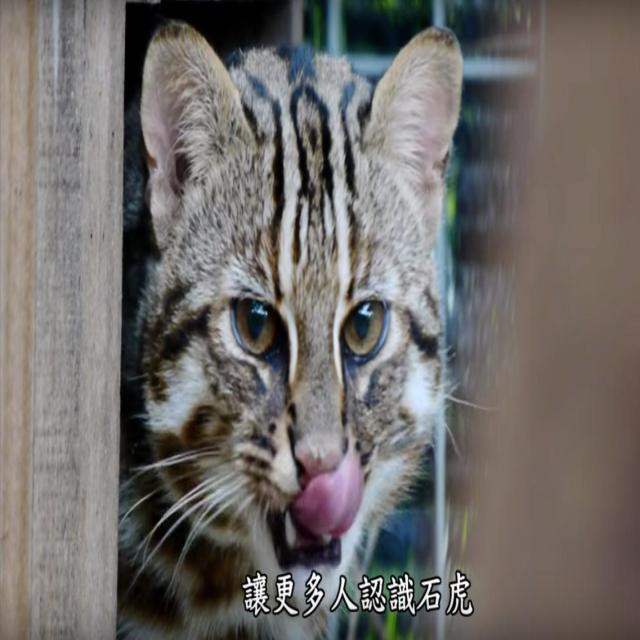leopard: (144, 14, 508, 538)
